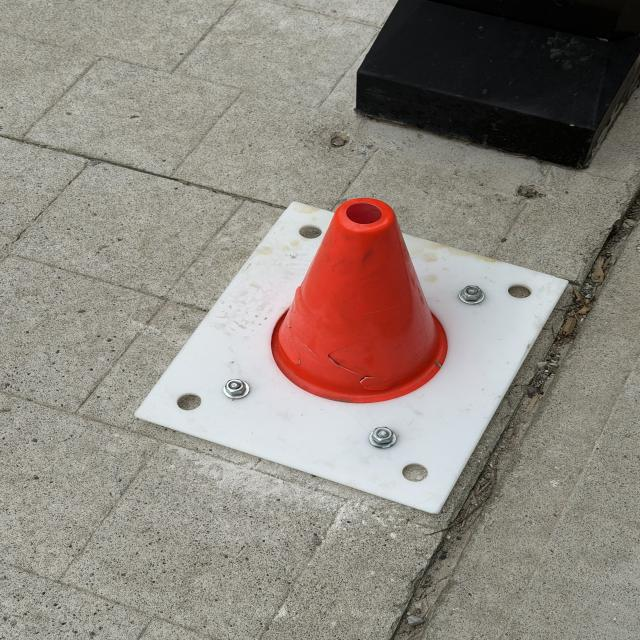Traffic Cone: (272, 198, 452, 405)
